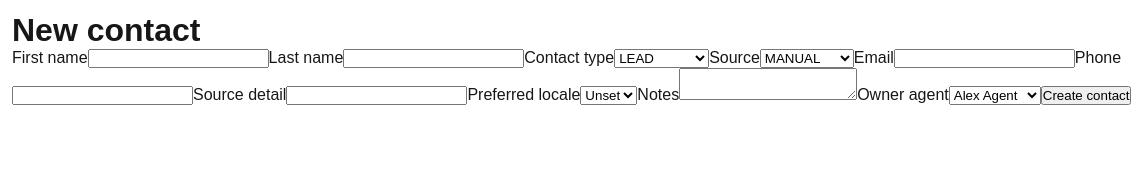
Test: New contact page › shows a validation error when first name, last name, type, or source is missing
The image size is (1148, 172).
Click the button "Create contact" at (1086,96), box [1041, 86, 1132, 105]
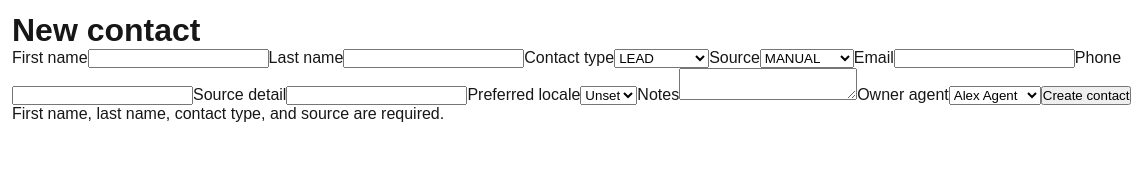
Check: the text "required" is shown, box [12, 105, 444, 122]
